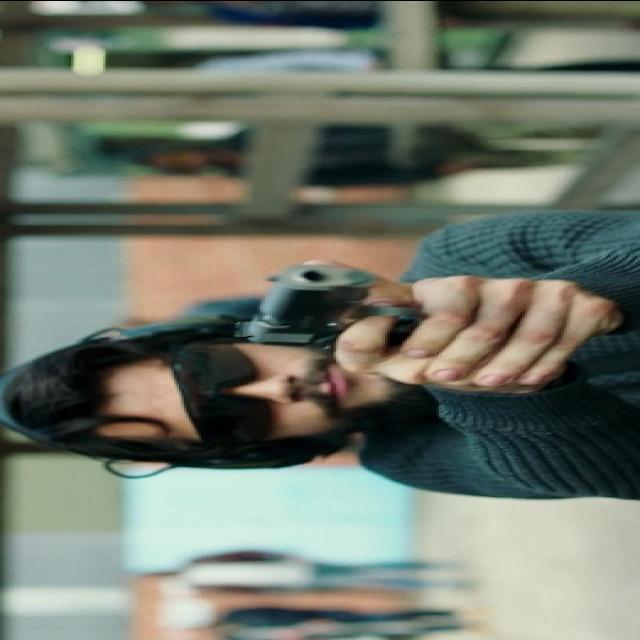weapons: (192, 260, 582, 360)
